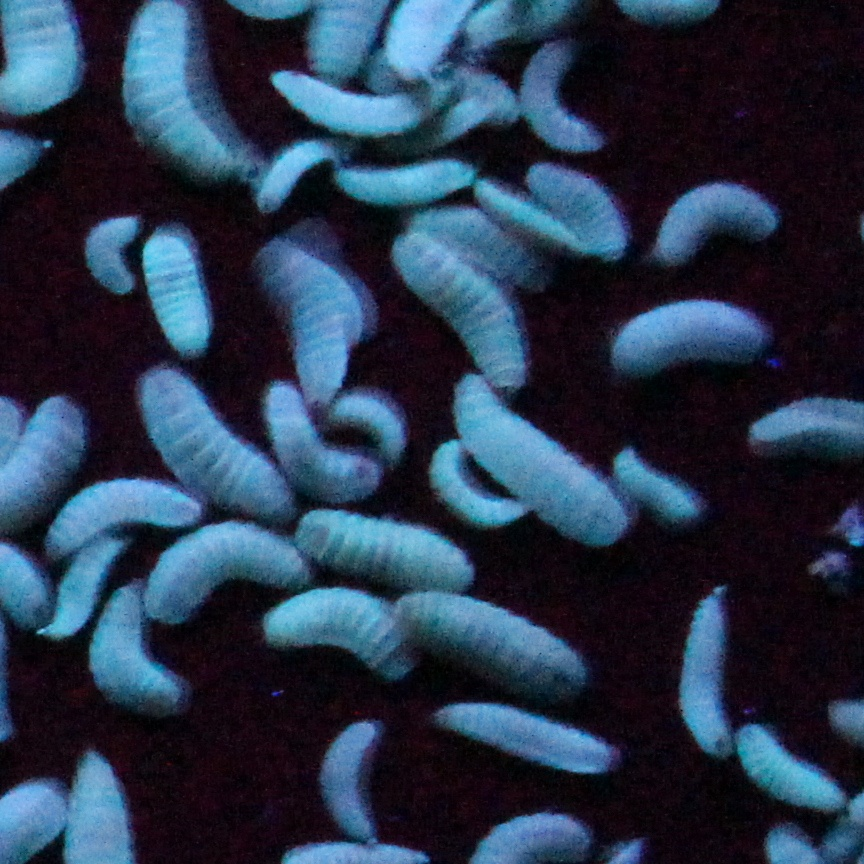larve: (104, 1, 261, 178), (459, 388, 626, 538), (146, 376, 304, 533), (389, 231, 546, 388), (406, 578, 591, 693), (84, 561, 196, 718), (154, 508, 304, 621), (294, 501, 466, 598), (499, 156, 629, 278), (611, 286, 769, 383), (656, 156, 784, 268), (444, 688, 611, 773), (266, 236, 354, 396), (279, 66, 459, 143), (324, 123, 489, 206), (56, 471, 211, 556), (744, 713, 849, 836), (264, 588, 409, 671), (516, 36, 599, 158), (321, 723, 391, 858), (419, 446, 526, 523), (244, 121, 334, 208), (681, 591, 729, 753), (154, 241, 221, 356), (324, 383, 419, 463), (609, 451, 701, 528), (44, 538, 114, 636), (274, 398, 331, 491)
